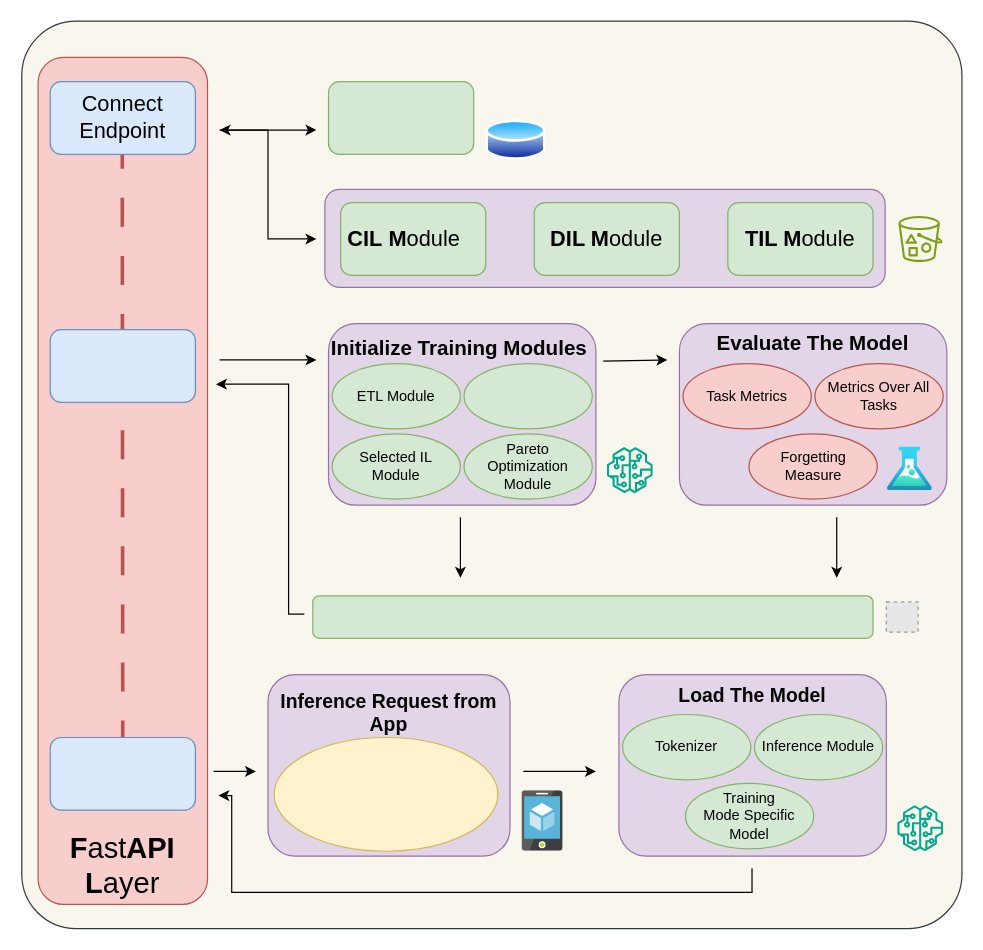
Some shapes in this 983 by 950 pixel diagram are drawn without their labels. Grey dashed boxes stand in for pictures. The centre of each missing label's shape, as x and y in pixels:
"Inference Endpoint" belongs at (x=122, y=773).
"Logging Module" belongs at (x=592, y=616).
"M odel R epository" belongs at (x=400, y=117).
"SMILES, Training Mode & Task details" belongs at (x=385, y=793).
"Train Endpoint" belongs at (x=122, y=365).
"Training Module" belongs at (x=527, y=395).
